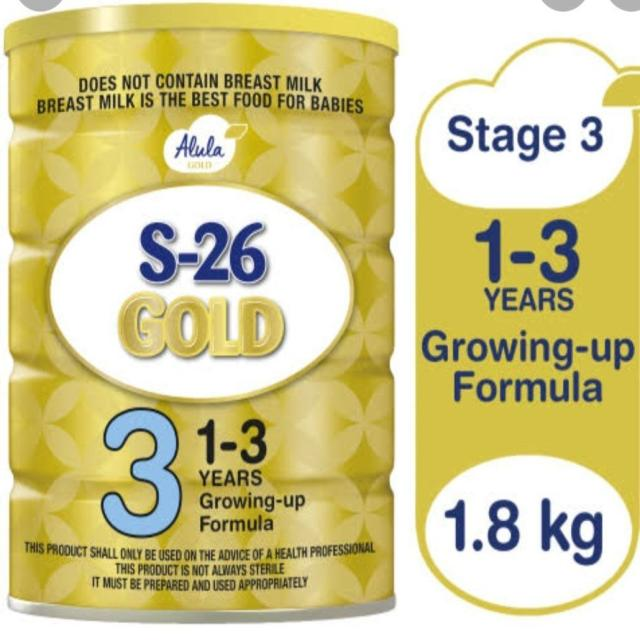formula-milk: (2, 19, 385, 604), (418, 88, 640, 574)
